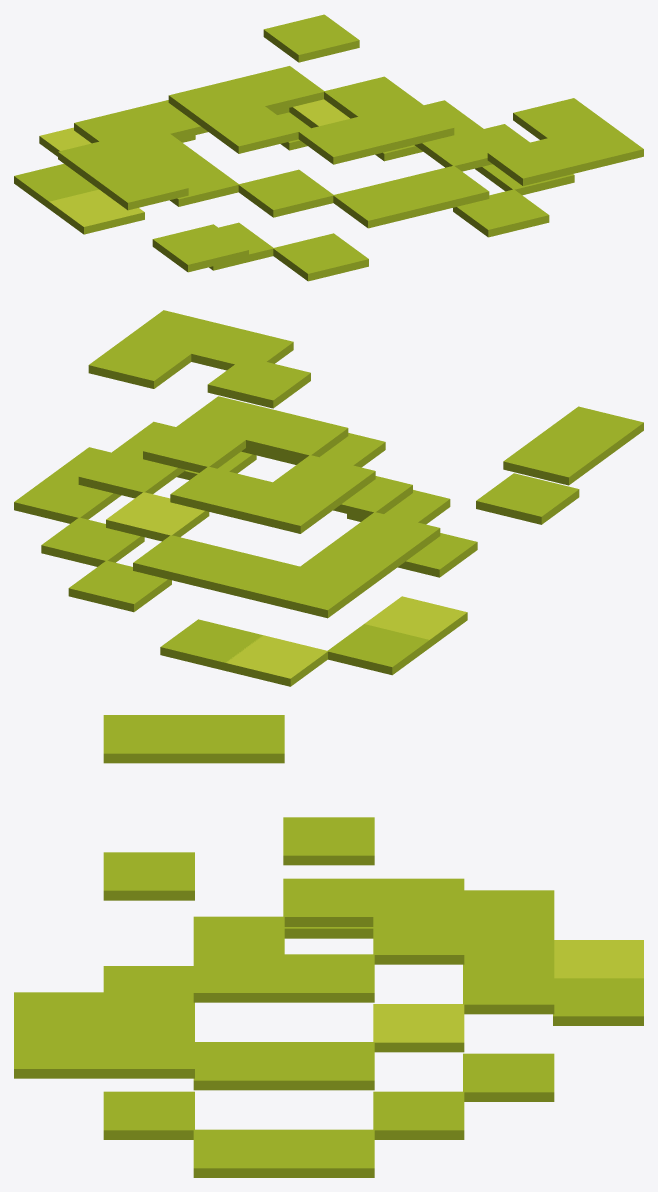
Rendered from Turf.obj.
3 renders of one model, top to bottom at view 1: azimuth 30°, elevation 25°; view 2: azimuth 150°, elevation 25°; view 3: azimuth 270°, elevation 25°, orthographic. The views are drawn at different scales.
Parts seen in each view (by area): view 1: Turf; view 2: Turf; view 3: Turf.
Part boxes in pixels (x1,y1,x2,y2): Turf: [14, 14, 643, 281]; Turf: [14, 310, 643, 686]; Turf: [14, 715, 643, 1177].
Bounding box in the file's own units: 8.02 × 2.56 × 7.02.
